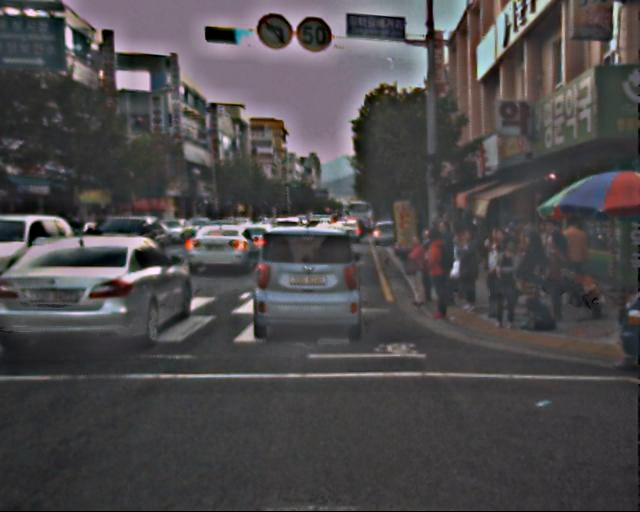person: (486, 236, 524, 328), (557, 214, 594, 305), (535, 233, 570, 319), (425, 219, 459, 302), (450, 225, 484, 307), (532, 217, 564, 296), (513, 236, 542, 307), (401, 232, 430, 302), (411, 228, 438, 294)
